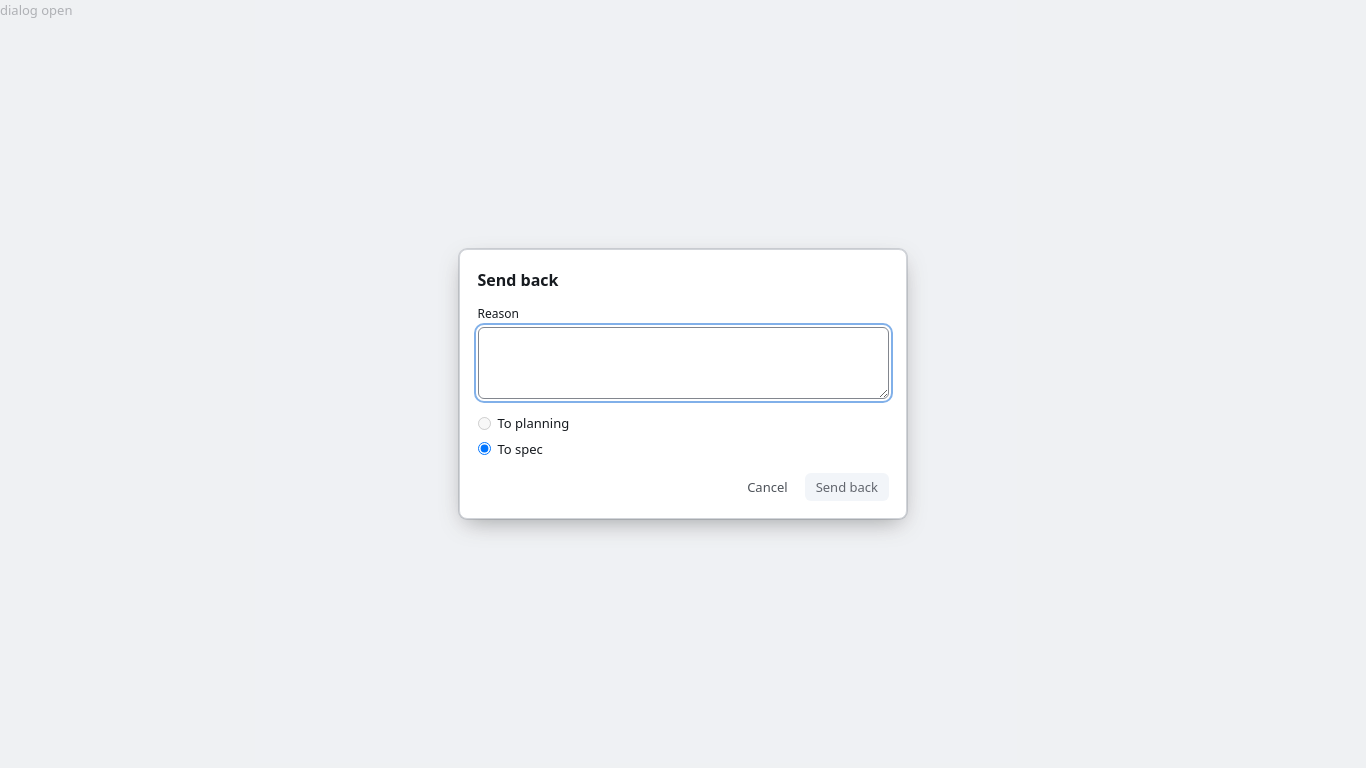
Test: the stage a rejection is of › Send back: a 409 keeps the dialog and the typed text and shows the server's own sentence
This screenshot has width=1366, height=768.
Type "too broad" into the text box labelled "Reason" at (683, 363), box [478,327,888,399]
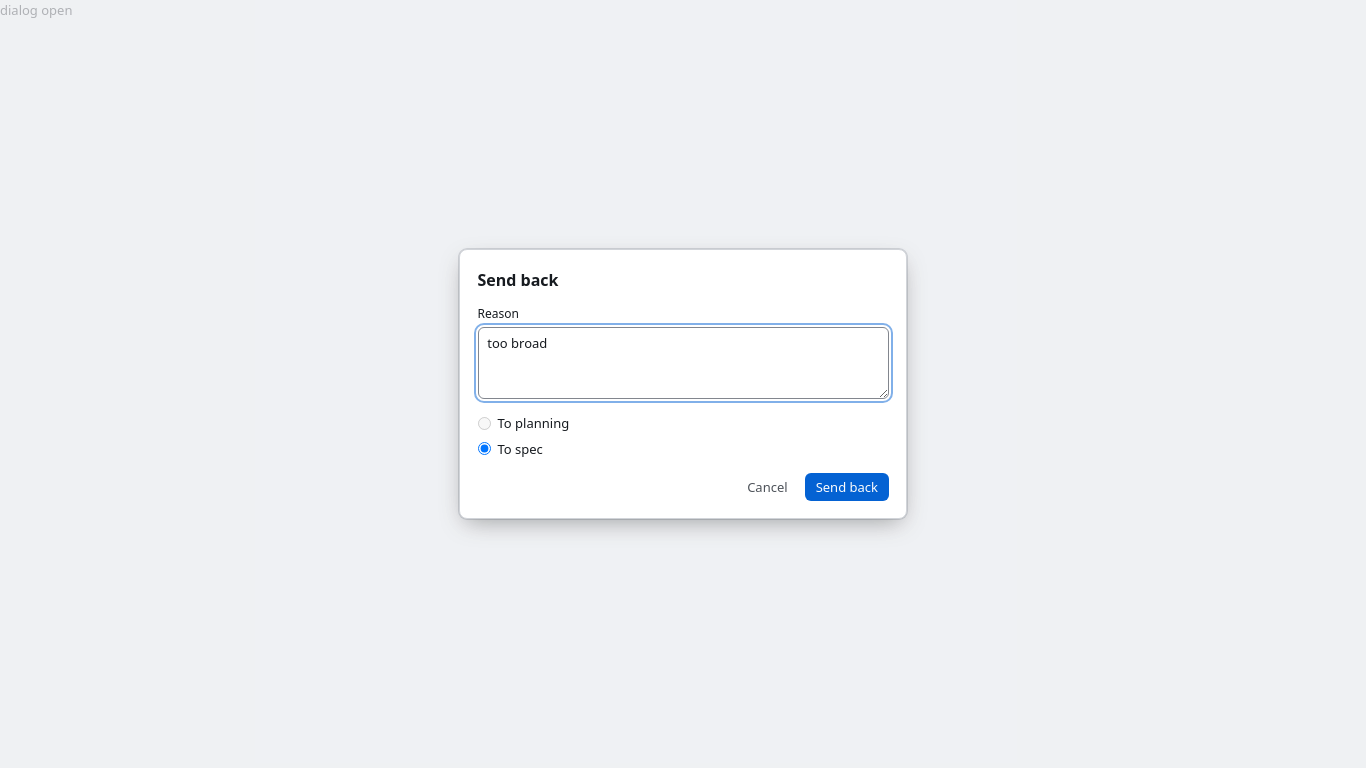
Click the button "Send back" at (847, 486), box [805,472,888,500]
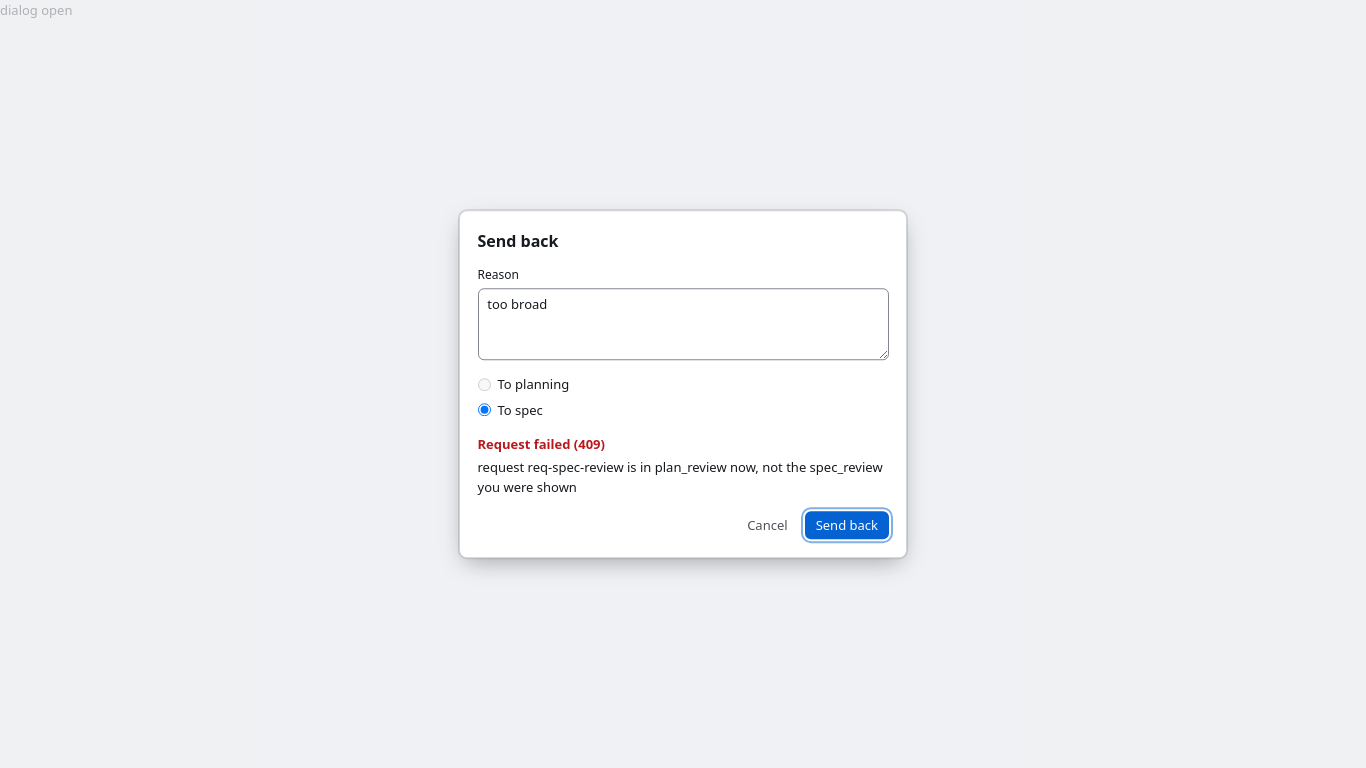
Expected: the text "dialog open" is shown, [0,1,72,19]
Expected: the message shows "request req-spec-review is in plan_review now, not the spec_review you were shown", [478,458,883,496]
